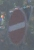No entry: (5, 6, 28, 44)
